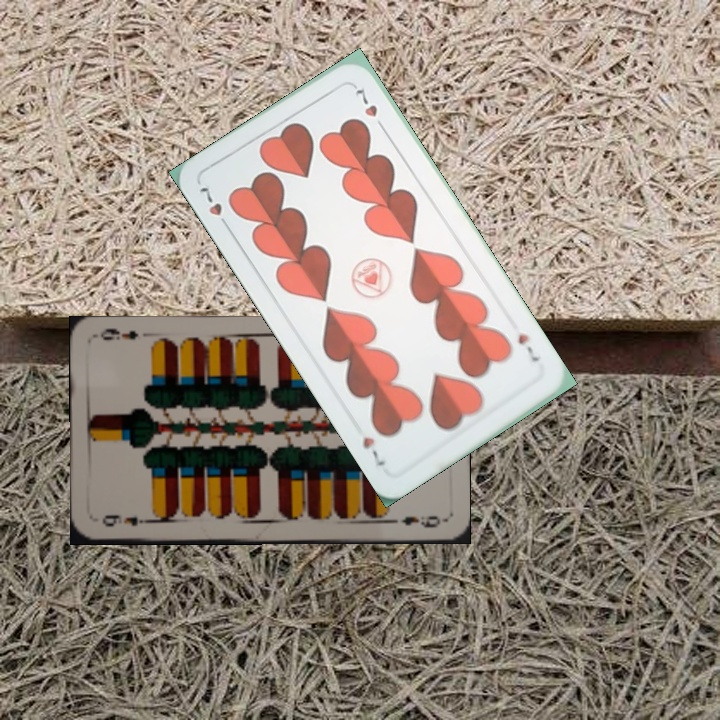E9: (98, 511, 154, 529)
H7: (195, 179, 233, 233), (513, 329, 542, 365)
